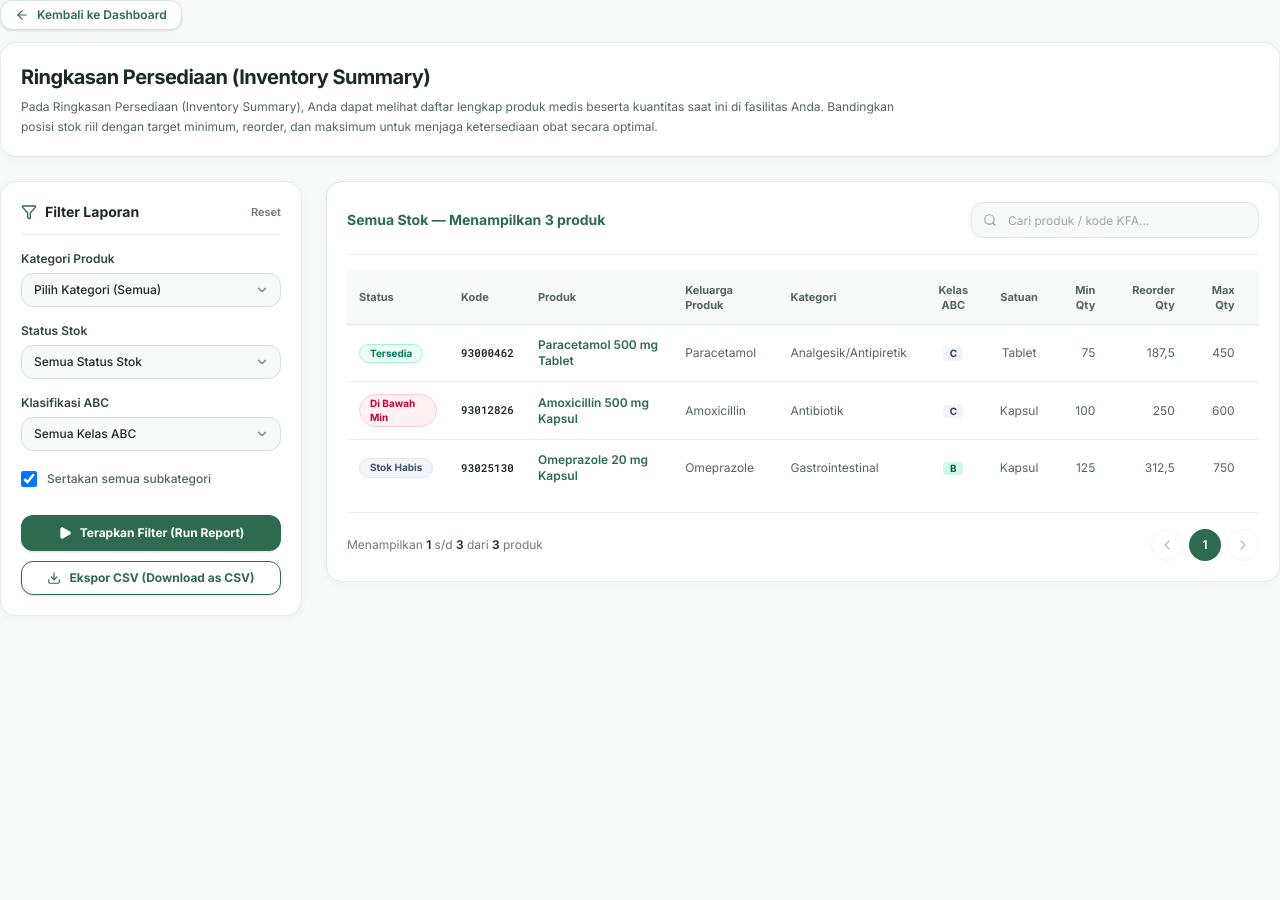
Test: InventorySummary Component › filters by search input
Check: the link "Paracetamol 500 mg Tablet" is shown, box [538,337,658,368]
Type "Amoxicillin" into the field with placeholder "Cari produk / kode KFA..." at (1115, 220), box [971,202,1259,238]
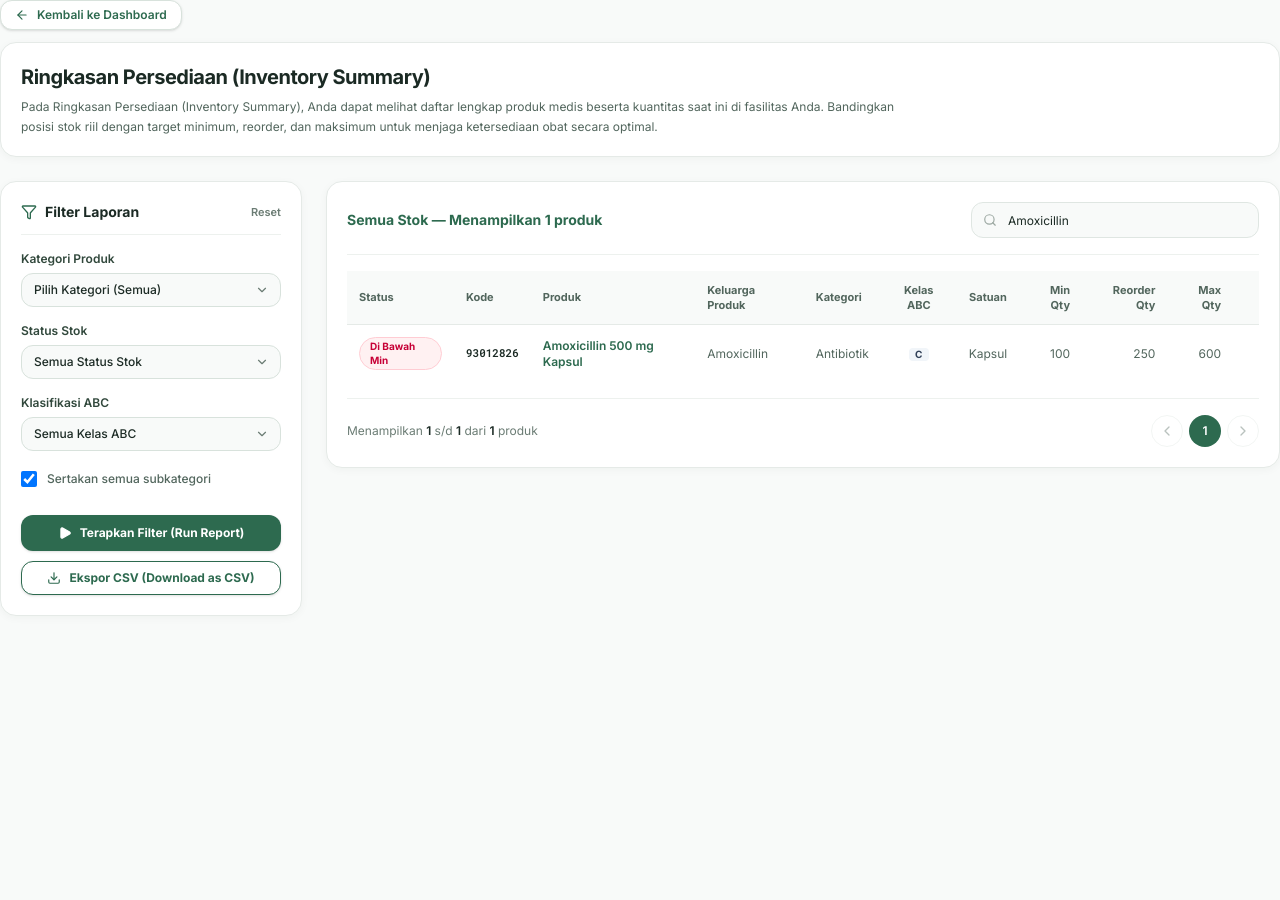
Check: the link "Amoxicillin 500 mg Kapsul" is shown, box [543,338,654,369]
Check: the link "Paracetamol 500 mg Tablet" is gone
